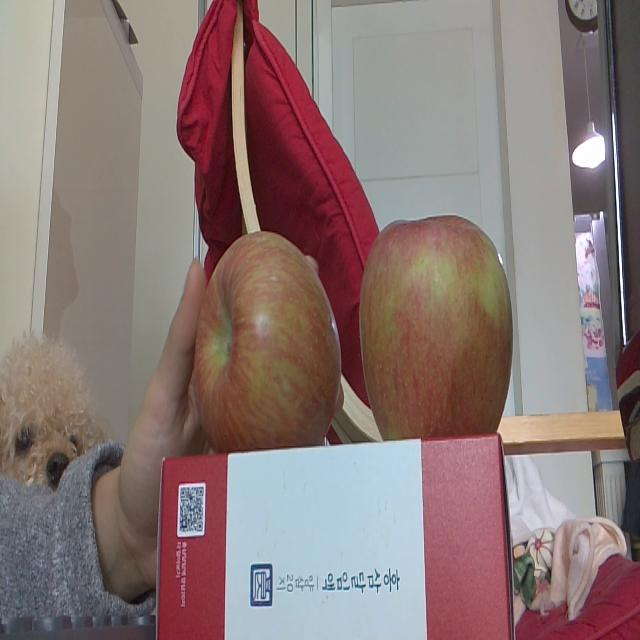apple: (358, 211, 518, 442), (190, 225, 346, 448)
